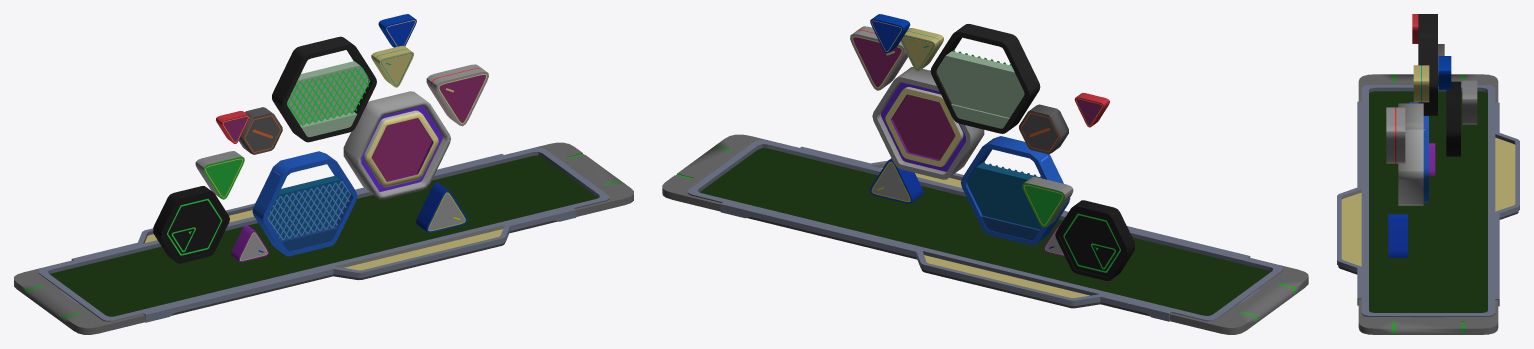
File: W_O_Landmark_002_L1.fbx
3 views of the same model, side by side, from view 1: azimuth 30°, elevation 25°; view 2: azimuth 150°, elevation 25°; view 3: azimuth 270°, elevation 25° (orthographic). The views are drawn at different scales.
Visible parts, largest first — view 1: W_O_Landmark_002_L1; view 2: W_O_Landmark_002_L1; view 3: W_O_Landmark_002_L1.
Boxes of the visible parts, left/top/right/bottom form: W_O_Landmark_002_L1: left=14, top=14, right=633, bottom=334; W_O_Landmark_002_L1: left=662, top=14, right=1308, bottom=334; W_O_Landmark_002_L1: left=1337, top=14, right=1519, bottom=334.
Bounding box in the file's own units: 11.42 × 3.85 × 3.47.
